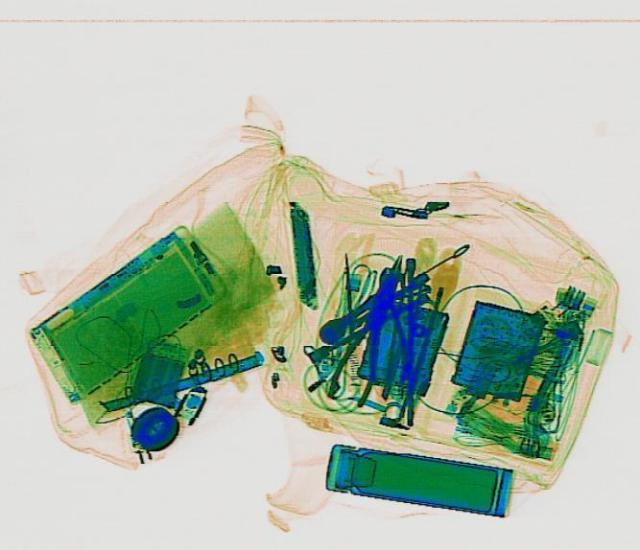Pliers: (322, 249, 420, 405), (362, 264, 410, 378)
